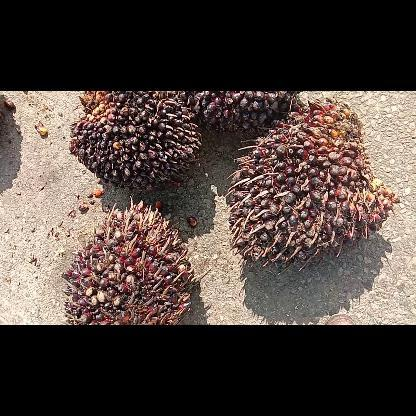TBS mentah: (223, 97, 399, 275), (62, 196, 210, 324), (70, 91, 200, 195), (178, 91, 296, 138)
